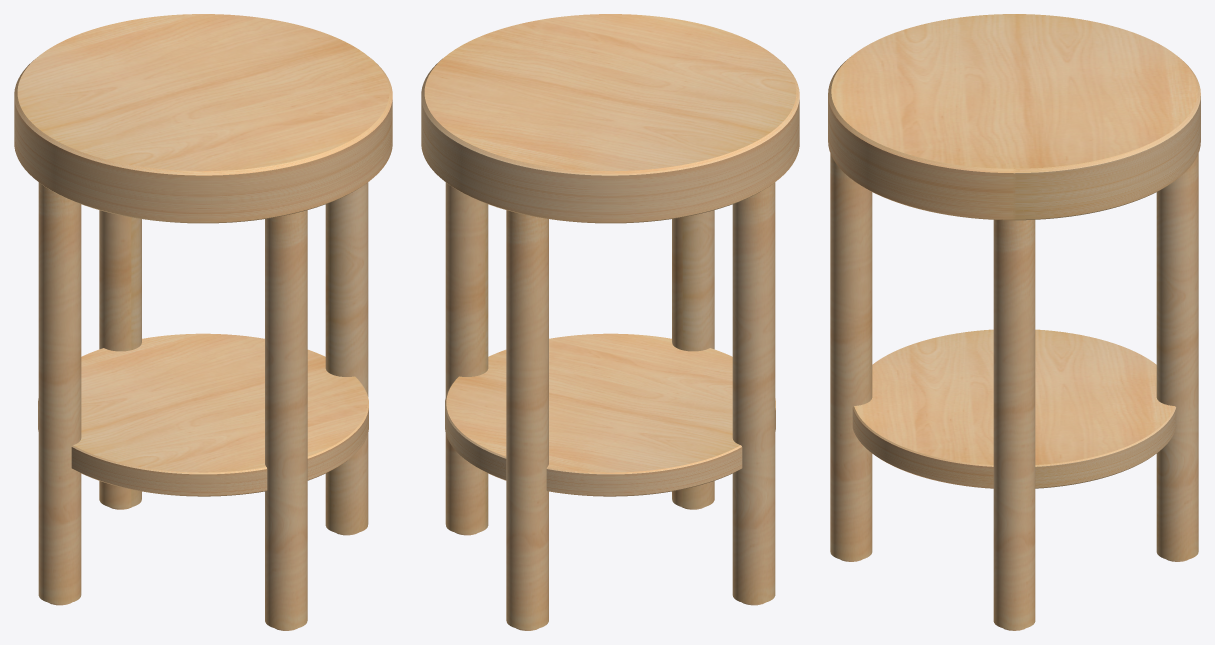
File: mesa.obj
3 renders of one model, left to right at view 1: azimuth 30°, elevation 25°; view 2: azimuth 150°, elevation 25°; view 3: azimuth 270°, elevation 25°, orthographic.
Parts seen in each view (by area): view 1: NGon005, NGon006, Cylinder012, Cylinder015, Cylinder013, Cylinder014; view 2: NGon005, NGon006, Cylinder014, Cylinder015, Cylinder013, Cylinder012; view 3: NGon005, NGon006, Cylinder013, Cylinder012, Cylinder014.
Part boxes in pixels (box(x1,y1,x2,y2)): NGon005: box(14, 14, 392, 223); NGon006: box(38, 333, 368, 496); Cylinder012: box(265, 210, 307, 629); Cylinder015: box(38, 182, 81, 603); Cylinder013: box(325, 182, 368, 533); Cylinder014: box(99, 210, 141, 508); NGon005: box(421, 14, 799, 223); NGon006: box(445, 333, 775, 496); Cylinder014: box(506, 210, 548, 629); Cylinder015: box(732, 182, 775, 603); Cylinder013: box(445, 182, 488, 533); Cylinder012: box(672, 210, 714, 508); NGon005: box(828, 14, 1200, 220); NGon006: box(852, 329, 1176, 488); Cylinder013: box(993, 220, 1035, 629); Cylinder012: box(830, 153, 872, 560); Cylinder014: box(1156, 153, 1198, 560).
Bounding box in the file's own units: 0.3234 × 0.4447 × 0.3234.
Materials: 1 (1 with a texture image).
